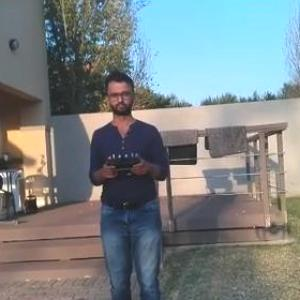follow: (87, 64, 178, 299)
